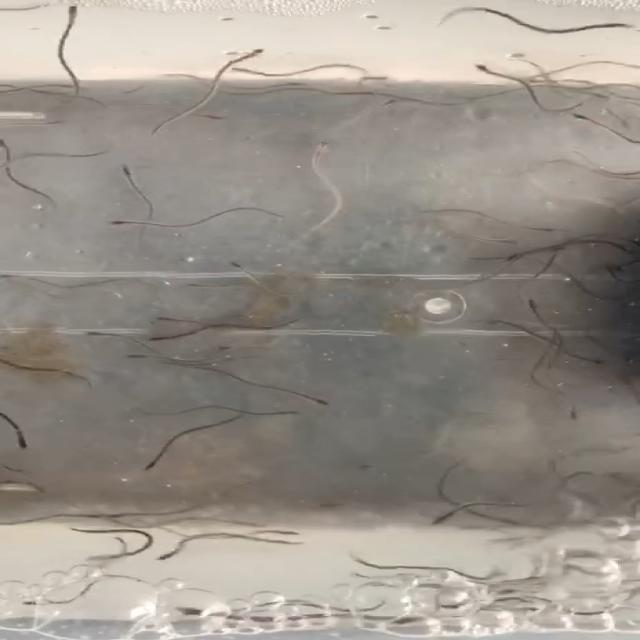active_glass_eel: (229, 45, 274, 63), (522, 223, 574, 237), (314, 494, 352, 513), (151, 544, 190, 562), (79, 550, 120, 567), (112, 160, 141, 184), (344, 456, 386, 472), (557, 407, 592, 426), (57, 4, 87, 26), (445, 96, 495, 109), (39, 114, 75, 132), (468, 63, 504, 81), (2, 432, 36, 451), (170, 602, 210, 618), (102, 216, 141, 232), (597, 259, 627, 279), (426, 510, 456, 530), (306, 136, 338, 154), (276, 77, 316, 91), (274, 523, 308, 539), (64, 81, 100, 96), (150, 313, 188, 327), (442, 597, 475, 613), (19, 594, 54, 609), (501, 249, 544, 261), (569, 111, 601, 127), (125, 348, 159, 363), (524, 73, 560, 87), (137, 456, 162, 476), (607, 23, 640, 38), (0, 133, 22, 155), (492, 235, 529, 248), (195, 110, 234, 122), (268, 406, 306, 418), (230, 517, 265, 530), (372, 95, 400, 110), (188, 278, 216, 293), (304, 393, 334, 407), (218, 66, 252, 78), (205, 342, 234, 356), (0, 267, 27, 282), (588, 355, 616, 369), (227, 260, 248, 278), (519, 295, 541, 312), (145, 332, 176, 344), (80, 330, 120, 338)
